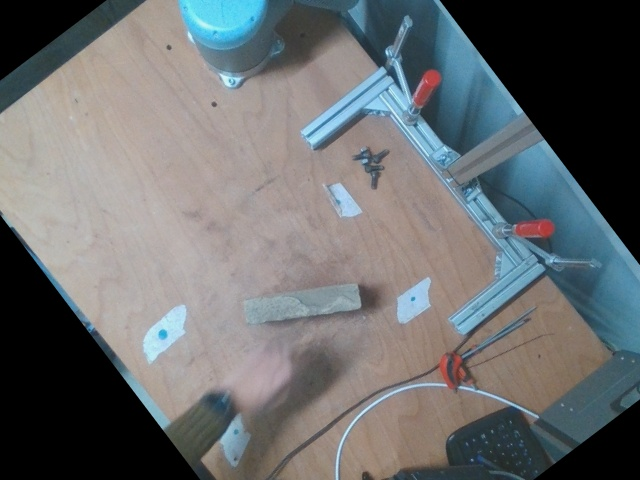brick-side: (246, 287, 358, 320)
